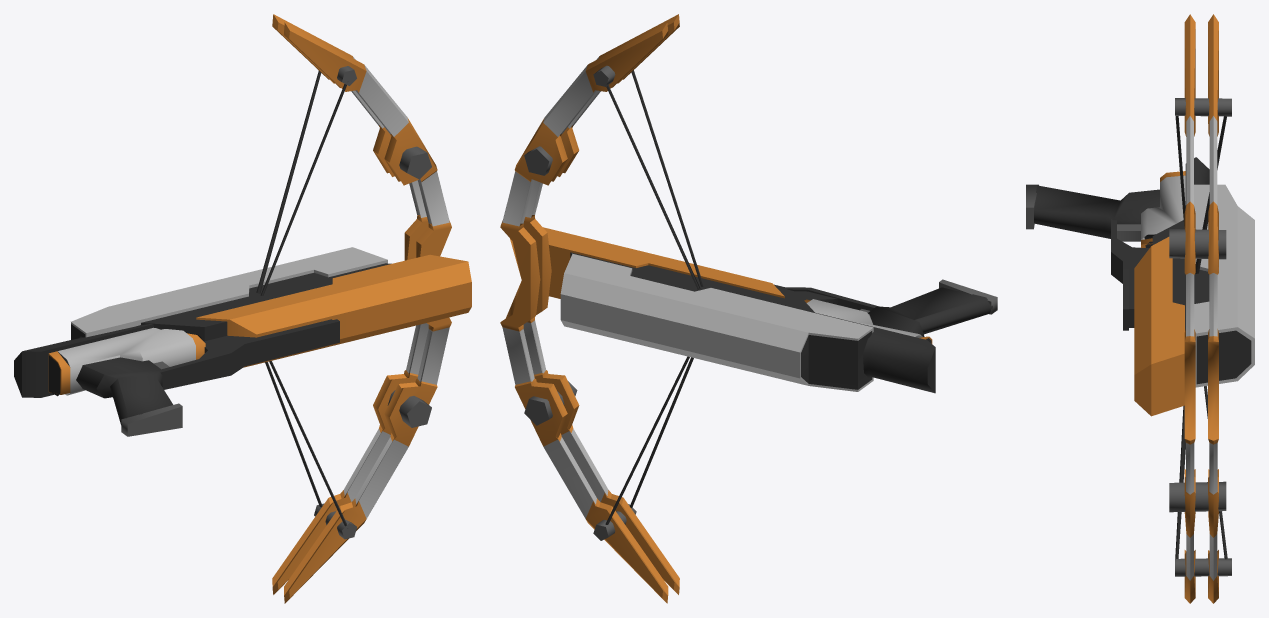
The model's file is qg-crossbow-2-lod2.glb.
3 views of the same model, side by side, from view 1: azimuth 30°, elevation 25°; view 2: azimuth 150°, elevation 25°; view 3: azimuth 270°, elevation 25° (orthographic).
Visible parts, largest first — view 1: WeaponMesh_qg-crossbow-2_Crossbow_2; view 2: WeaponMesh_qg-crossbow-2_Crossbow_2; view 3: WeaponMesh_qg-crossbow-2_Crossbow_2.
Boxes of the visible parts, <box> form: WeaponMesh_qg-crossbow-2_Crossbow_2: <box>14,14,471,603</box>; WeaponMesh_qg-crossbow-2_Crossbow_2: <box>500,14,997,603</box>; WeaponMesh_qg-crossbow-2_Crossbow_2: <box>1026,14,1254,603</box>.
Bounding box in the file's own units: 0.8429 × 1.1 × 0.3866.
